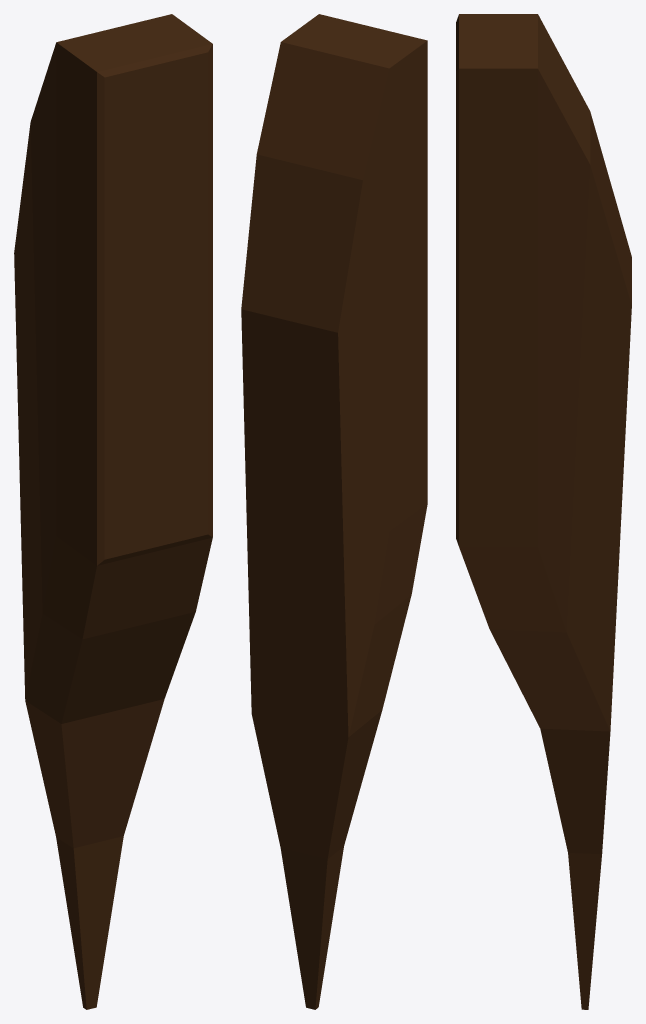
File: Mur.fbx
3 views of the same model, side by side, from view 1: azimuth 30°, elevation 25°; view 2: azimuth 150°, elevation 25°; view 3: azimuth 270°, elevation 25° (orthographic). The views are drawn at different scales.
Visible parts, largest first — view 1: Mur; view 2: Mur; view 3: Mur.
Part boxes in pixels (x1,y1,x2,y2): Mur: (14,14,212,1009); Mur: (241,14,427,1009); Mur: (456,14,631,1009).
Bounding box in the file's own units: 556 × 4574 × 755.
